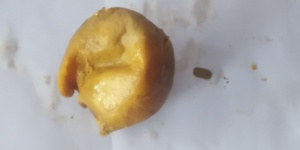BAD: (55, 9, 173, 131)
